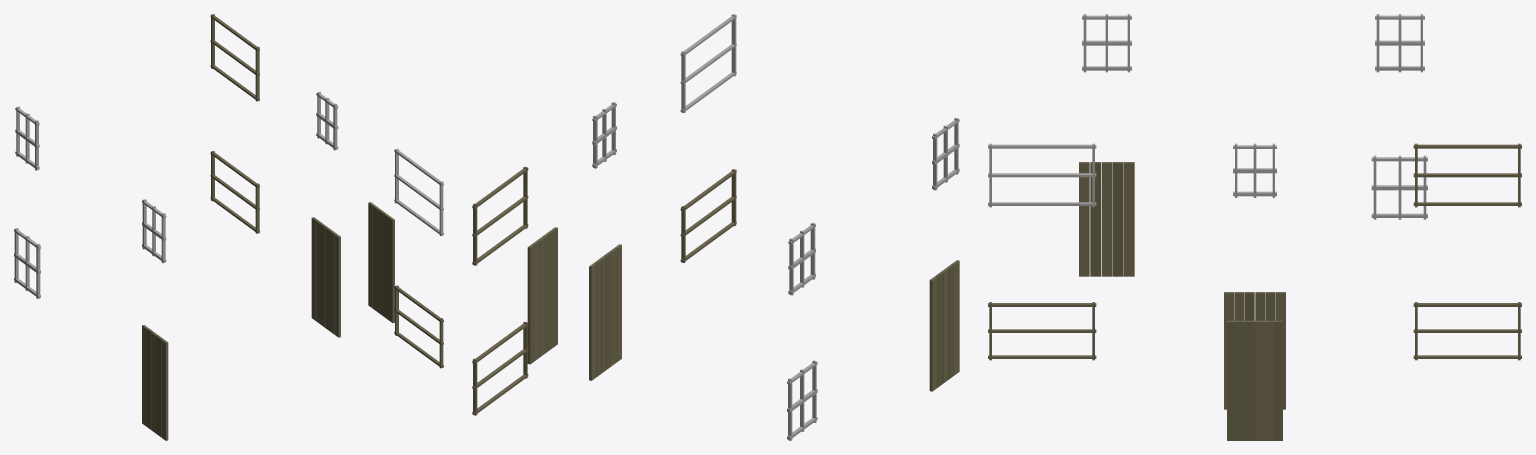
Rendered from SM_Bld_156_Wood.glb.
3 views of the same model, side by side, from view 1: azimuth 30°, elevation 25°; view 2: azimuth 150°, elevation 25°; view 3: azimuth 270°, elevation 25° (orthographic). The views are drawn at different scales.
Parts seen in each view (by area): view 1: SM_Bld_156_Wood; view 2: SM_Bld_156_Wood; view 3: SM_Bld_156_Wood.
Boxes of the visible parts, bbox=[...] form: SM_Bld_156_Wood: bbox=[14, 14, 443, 440]; SM_Bld_156_Wood: bbox=[472, 14, 959, 440]; SM_Bld_156_Wood: bbox=[988, 14, 1521, 440].
Size of the model in its own units: 6.28 by 4.68 by 8.53.
